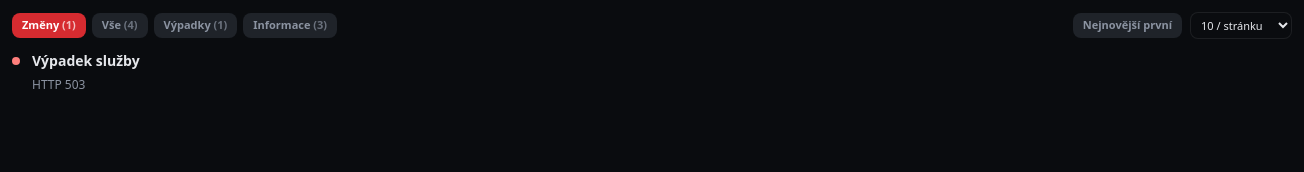
Test: CollapsedTimeline (C-10) › s filtry otevře na změnách a rutinu ukáže až pod „Vše“
This screenshot has width=1304, height=172.
Expected: the text "3× za sebou" is not shown
Click the button "Vše (4)" at (120, 26), box [92,13,148,38]
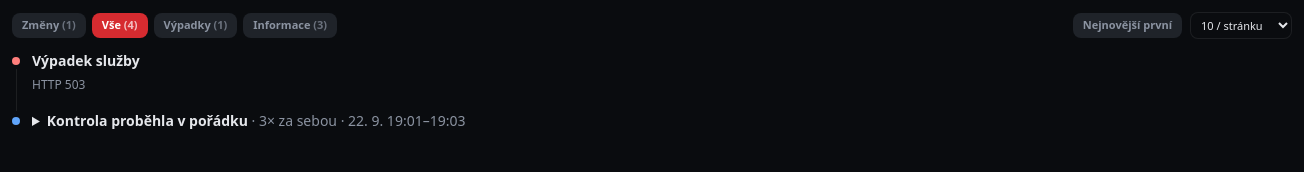
Result: the text "· 3× za sebou · 22. 9. 19:01–19:03" is shown at [248,110,466,130]
